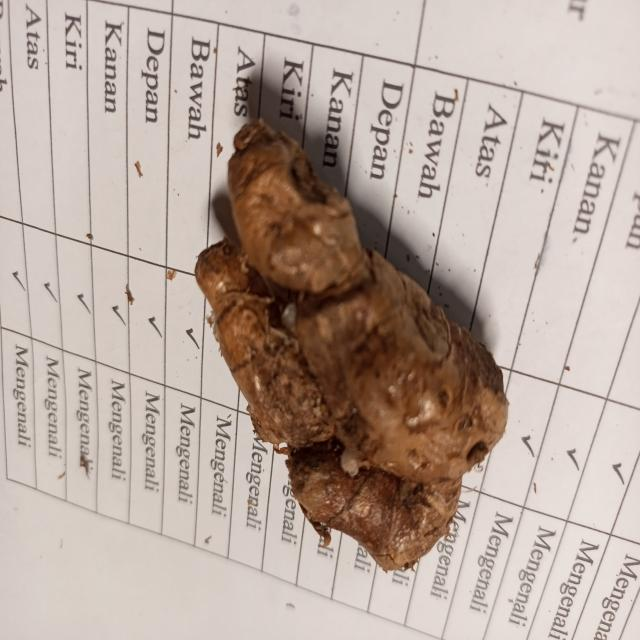ginger: (204, 125, 492, 558)
